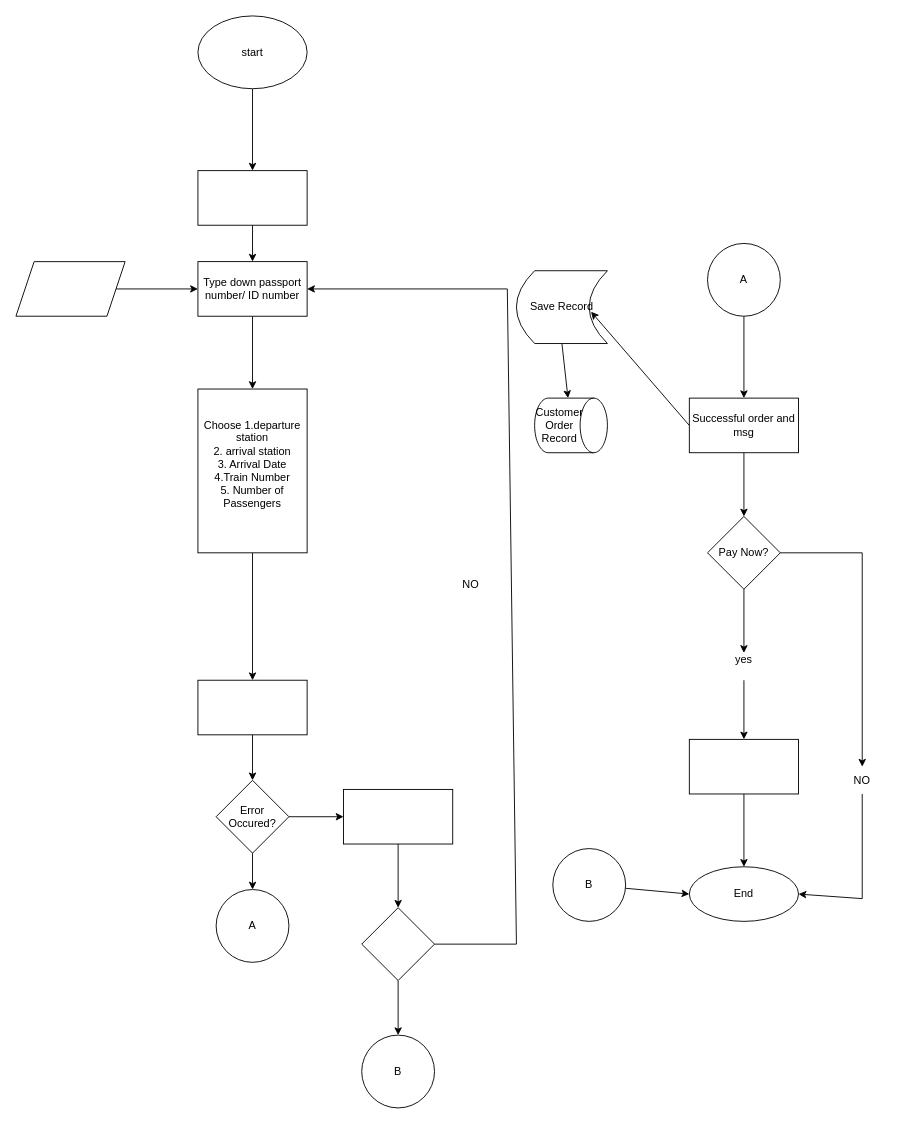
This 905x1124 diagram has some shape labels left out. Here are the shapes that lost their labels. From the top down, the box of each, then its label:
(197, 170, 307, 225): Check time table
(15, 261, 125, 316): Passport Number /ID number
(197, 679, 307, 735): Submit this order
(688, 738, 799, 794): Payment System
(343, 789, 453, 844): show error MSG
(361, 907, 435, 981): EXIT?
